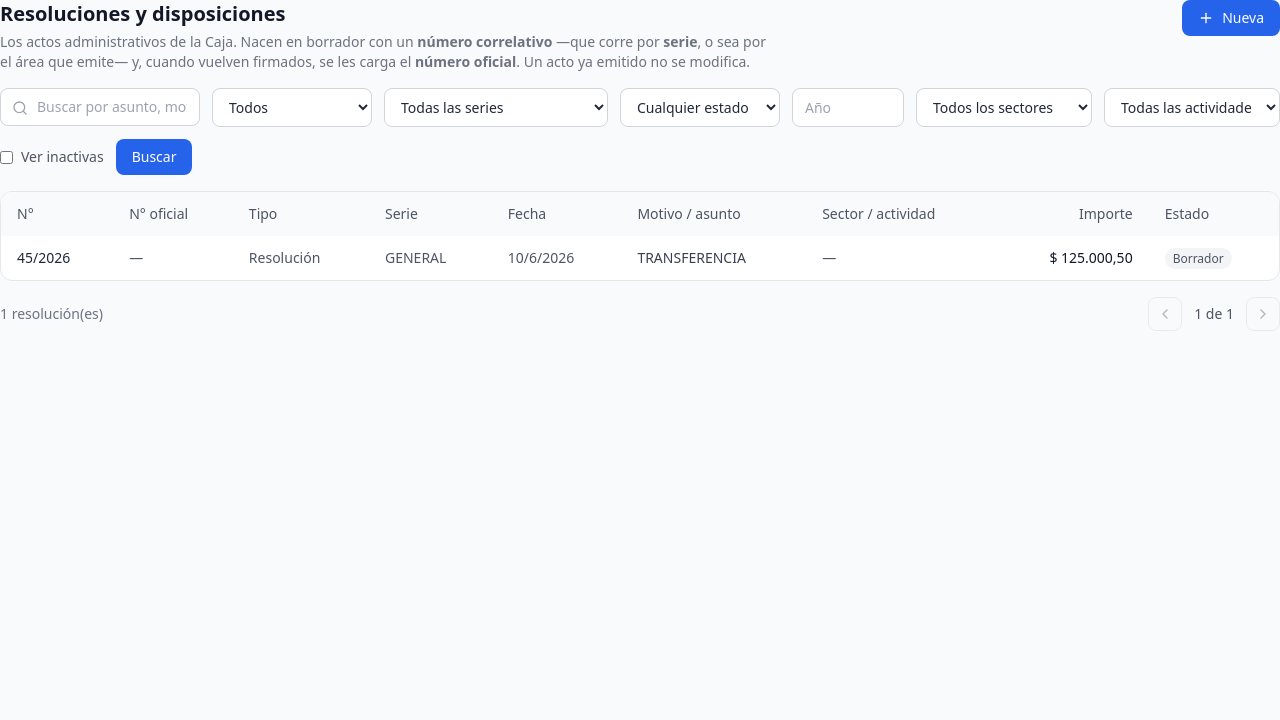
resoluciones y disposiciones › muestra el motivo cuando el backend rechaza la acción
Click the text "45/2026" at (57, 258), box [1, 236, 113, 280]
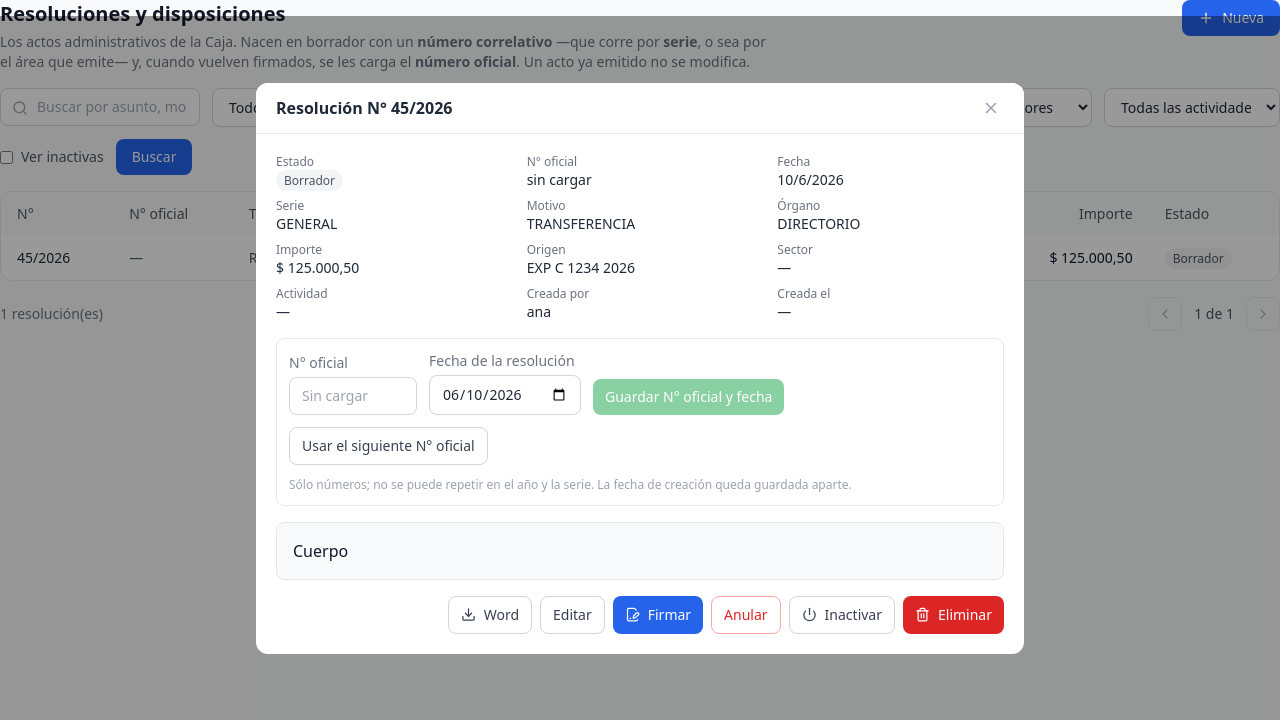
Click the button "Firmar" at (658, 614), box [613, 596, 703, 634]
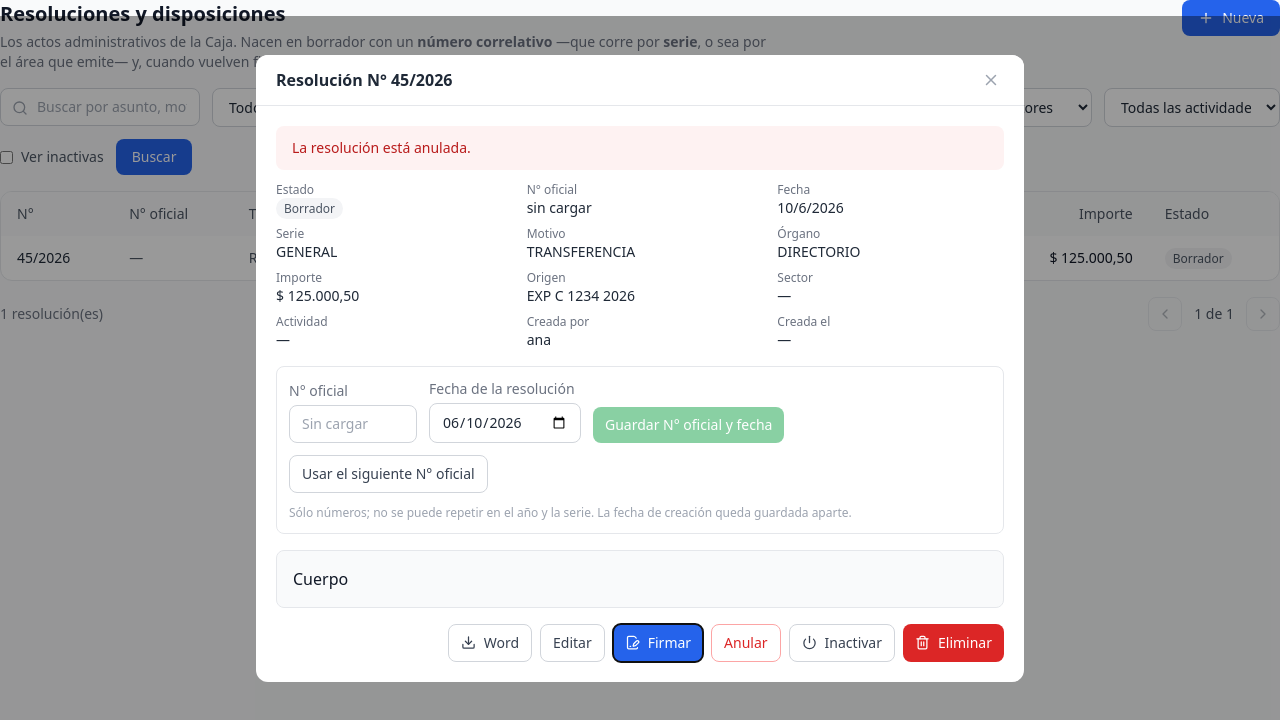
Expected: the text "La resolución está anulada." is shown, [276, 126, 1004, 170]
